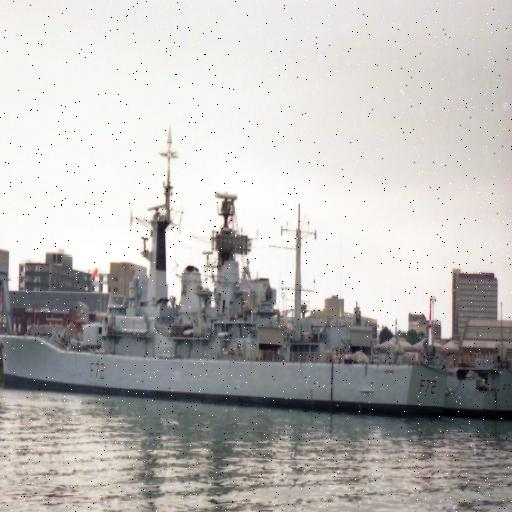Fragata: (1, 112, 448, 425)
